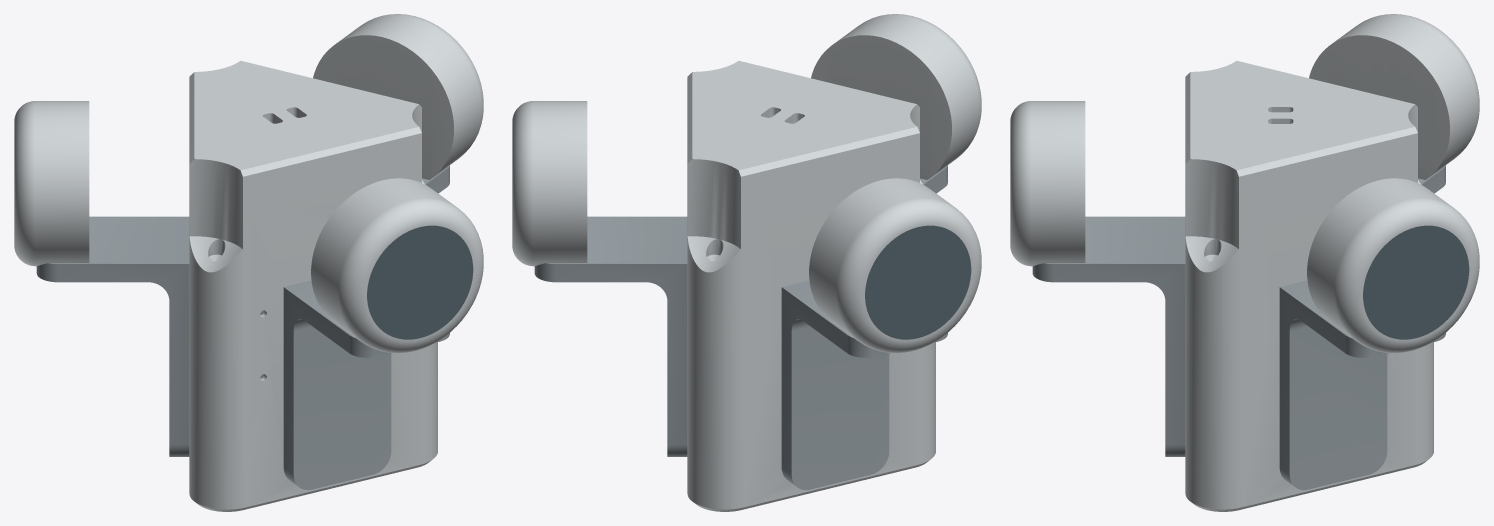
Rendered from acorn.glb.
3 views of the same model, side by side, from view 1: azimuth 30°, elevation 25°; view 2: azimuth 150°, elevation 25°; view 3: azimuth 270°, elevation 25° (orthographic).
Visible parts, largest first — view 1: housing, camera_centre, camera_left, plate_top, camera_right; view 2: housing, camera_left, camera_right, plate_top, camera_centre; view 3: housing, camera_right, camera_centre, plate_top, camera_left.
Part boxes in pixels (x1,y1,x2,y2): housing: (189,72,437,511); camera_centre: (283,178,483,490); camera_left: (14,101,189,456); plate_top: (194,60,418,170); camera_right: (313,14,483,193); housing: (687,72,935,511); camera_left: (781,178,981,490); camera_right: (512,101,687,456); plate_top: (692,60,916,170); camera_centre: (811,14,981,193); housing: (1185,72,1433,511); camera_right: (1279,178,1479,490); camera_centre: (1010,101,1185,456); plate_top: (1190,60,1414,170); camera_left: (1309,14,1479,193).
Size of the model in its own units: 0.214 by 0.153 by 0.1876.
